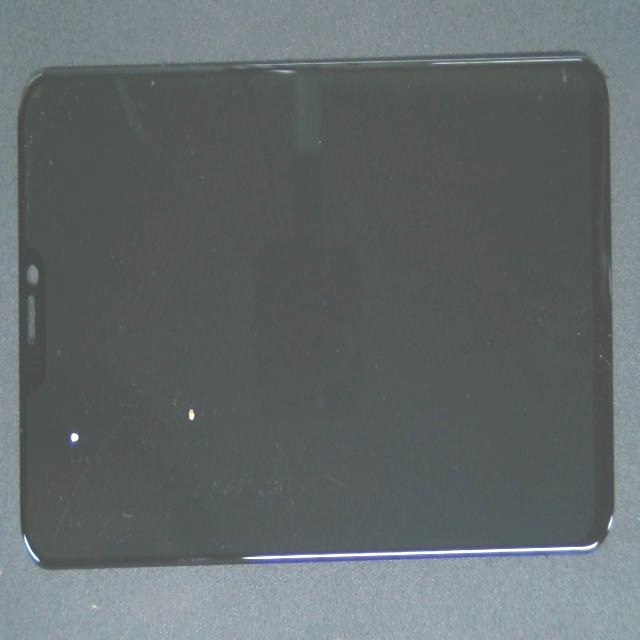stain: (112, 195, 283, 592), (59, 177, 127, 601)
